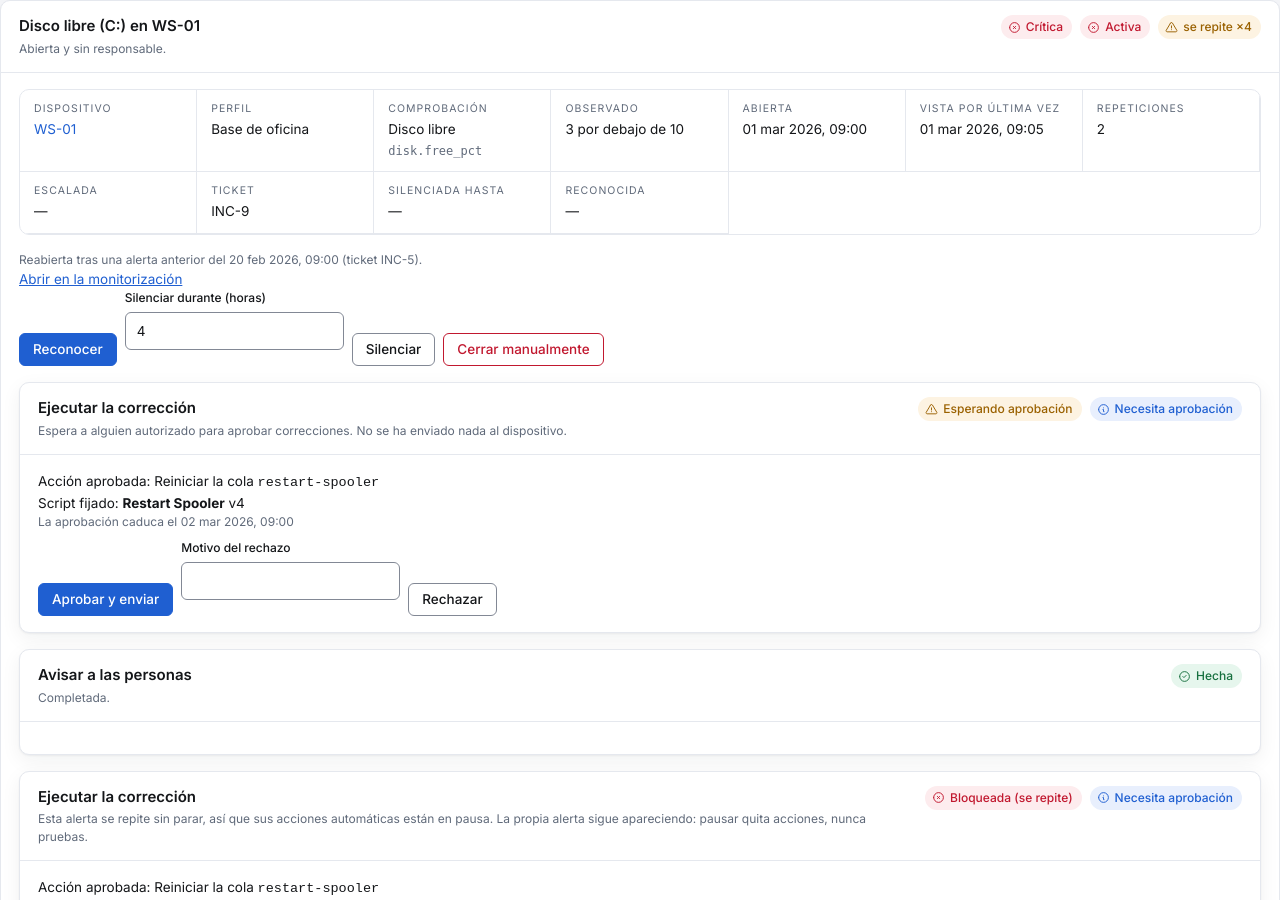
the alert detail, in Spanish › words an acknowledged alert's meaning, facts, controls and actions
Check: the heading "Disco libre (C:) en WS-01" is shown, box [19,15,200,38]
Check: the text "Abierta y sin responsable." is shown, box [19,40,166,56]
// Closing by hand asks first, and says it cannot be undone.
Click the button "Cerrar manualmente" at (523, 349), box [443,332,604,366]
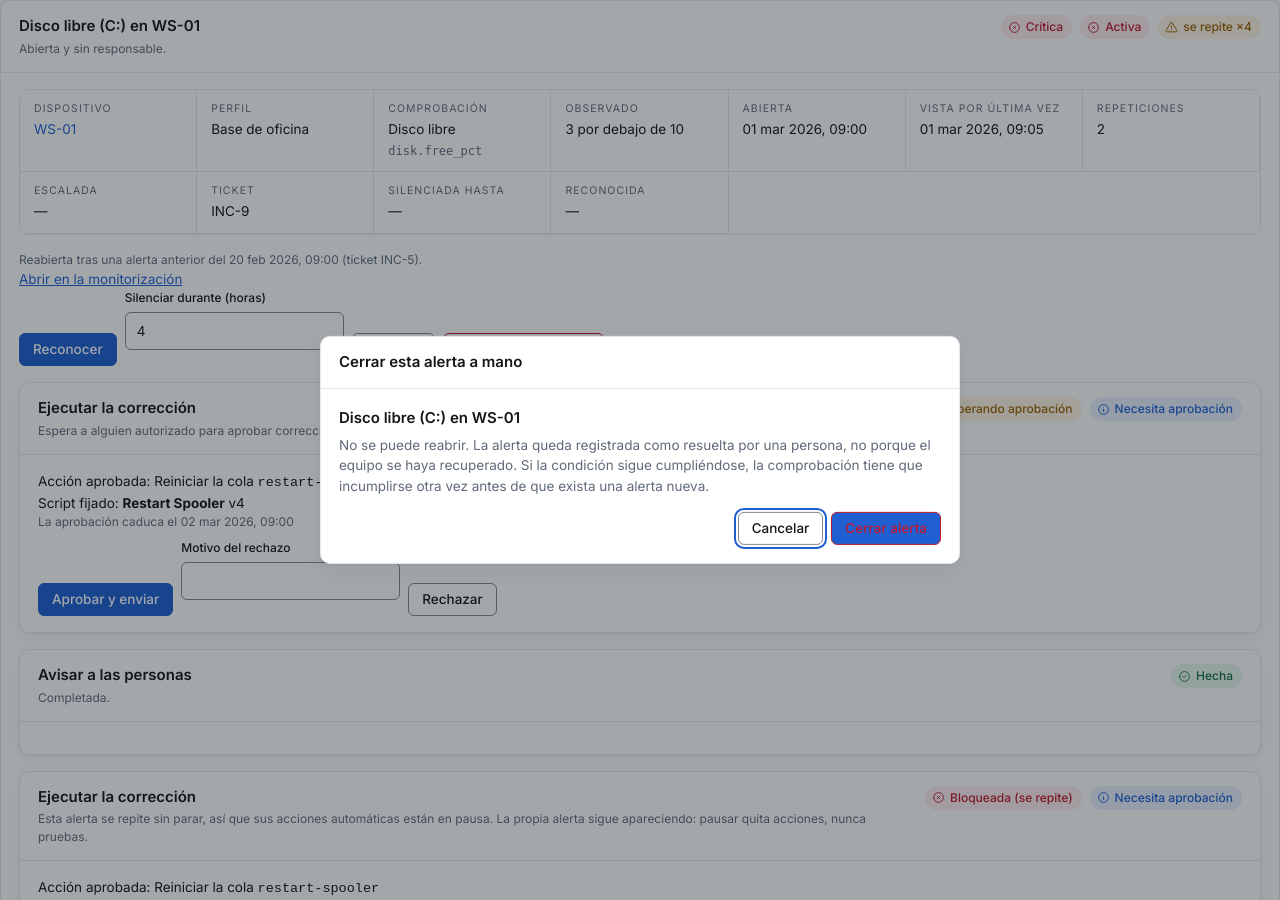
Check: the dialog "Cerrar esta alerta a mano" shows "No se puede reabrir.", box [339,437,931,493]
Check: the button "Cerrar alerta" is shown, box [831,512,941,545]
